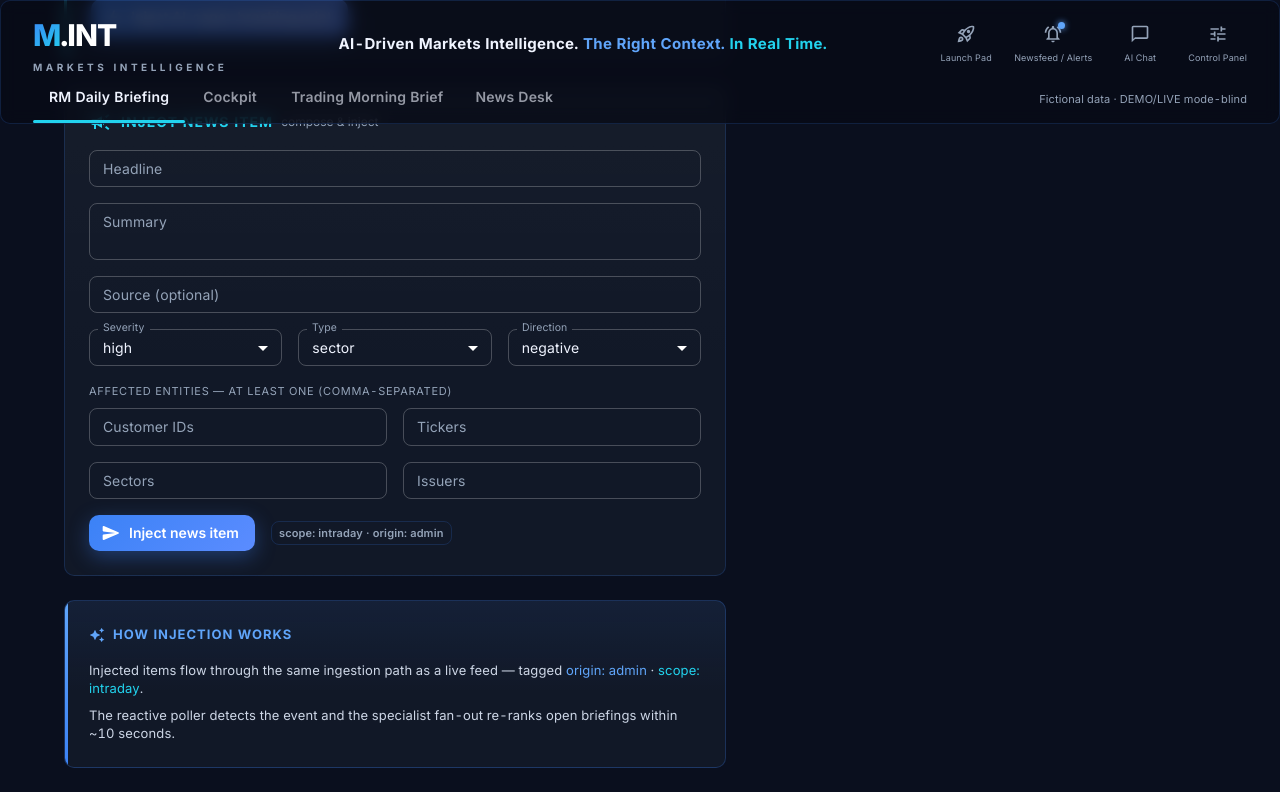
it: AdminScene › rejects an incomplete submission and ingests nothing
The width and height of the screenshot is (1280, 792).
(page scrolled)
# Submit with empty headline/summary/entities.
Click the button "Inject news item": (172, 533) left=89, top=515, right=255, bottom=551
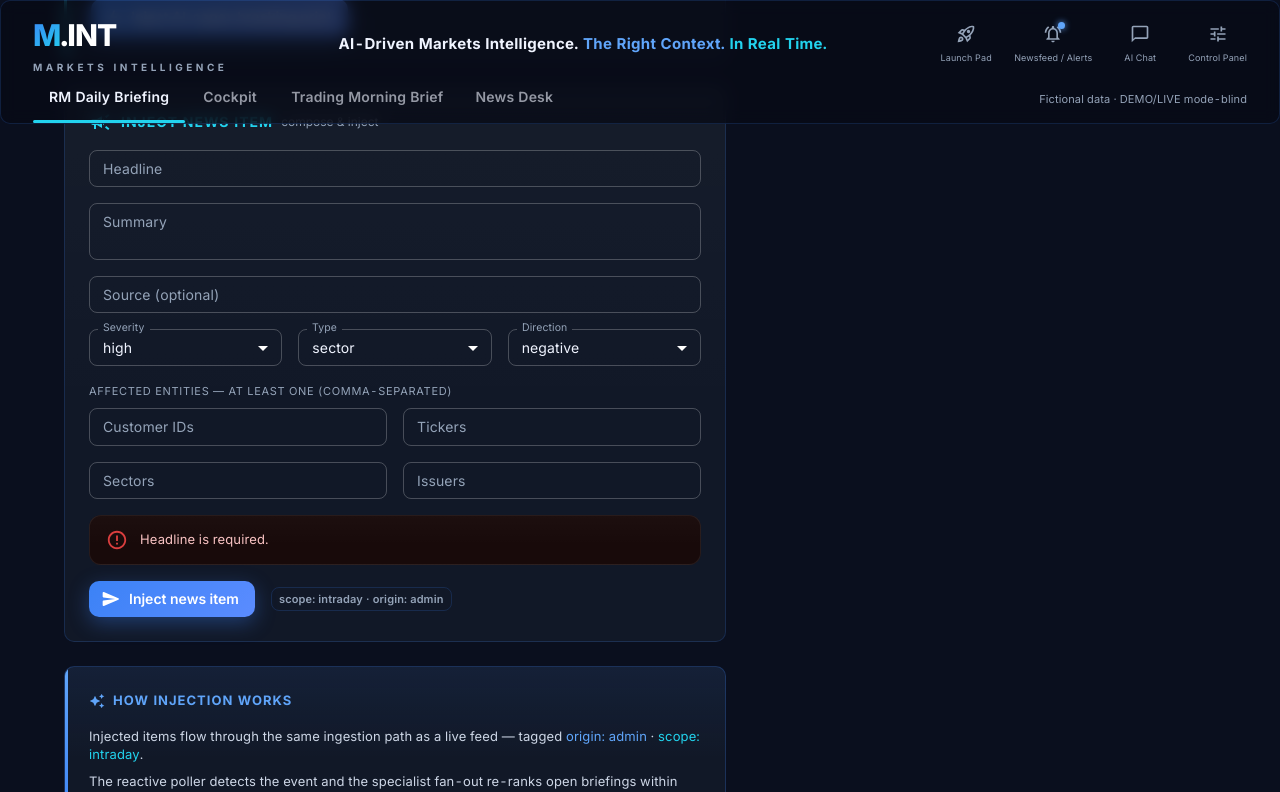
Expected: the message with test id "news-form-error" shows "Headline is required", left=140, top=531, right=269, bottom=547
